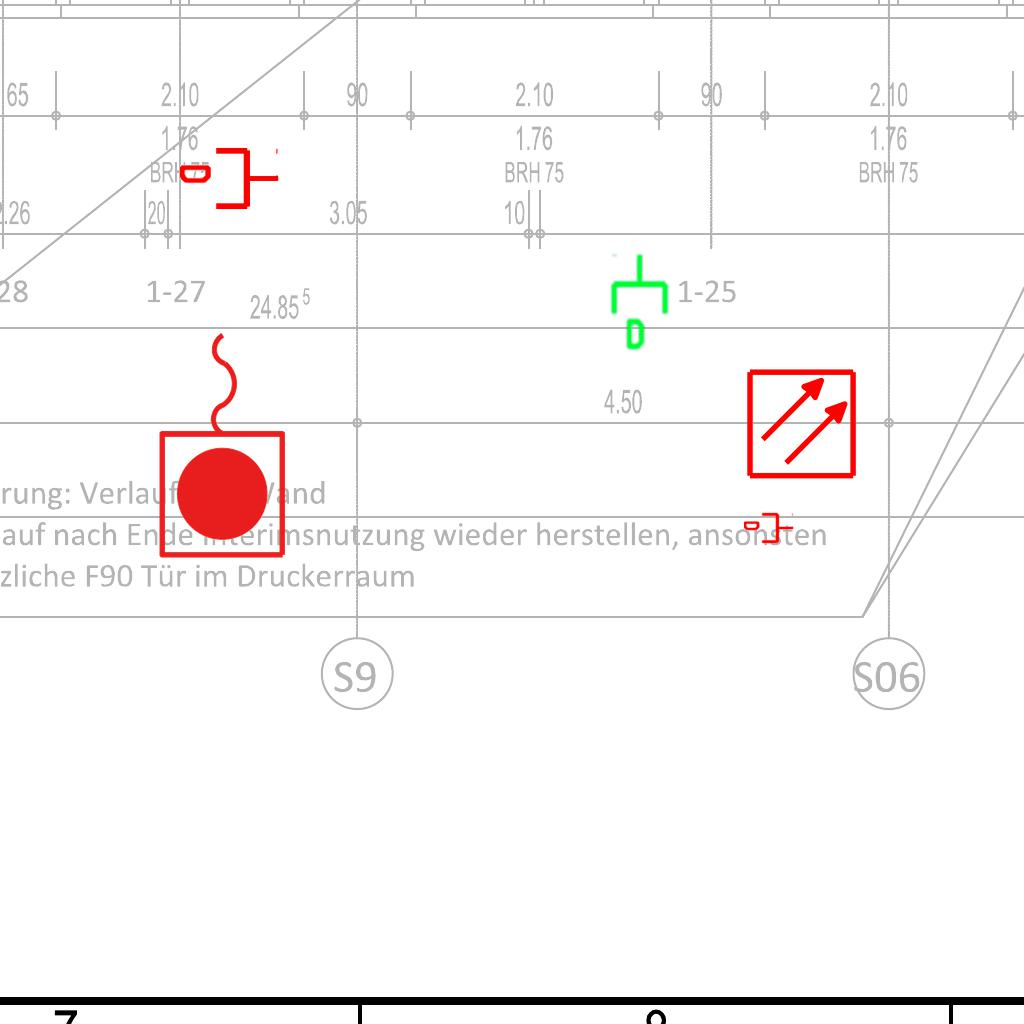Datenanschluss_einfach: (180, 144, 280, 213), (607, 252, 676, 352), (743, 510, 795, 546)
RMO_Rauchmelder_optischer: (745, 367, 858, 480)
Zugtaster: (152, 322, 296, 566)
